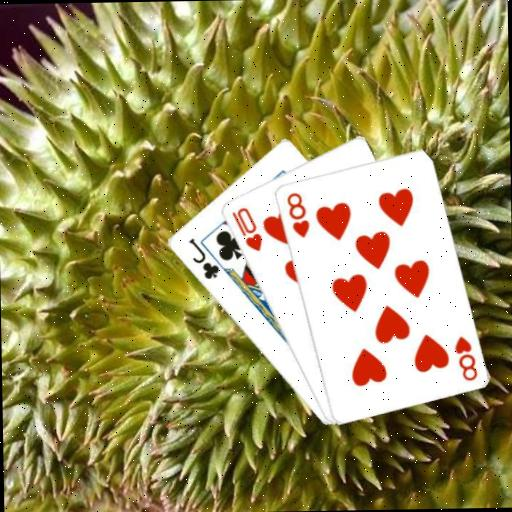10H: (228, 204, 264, 254)
8H: (283, 189, 311, 240), (451, 333, 479, 383)
JC: (185, 235, 221, 282)
